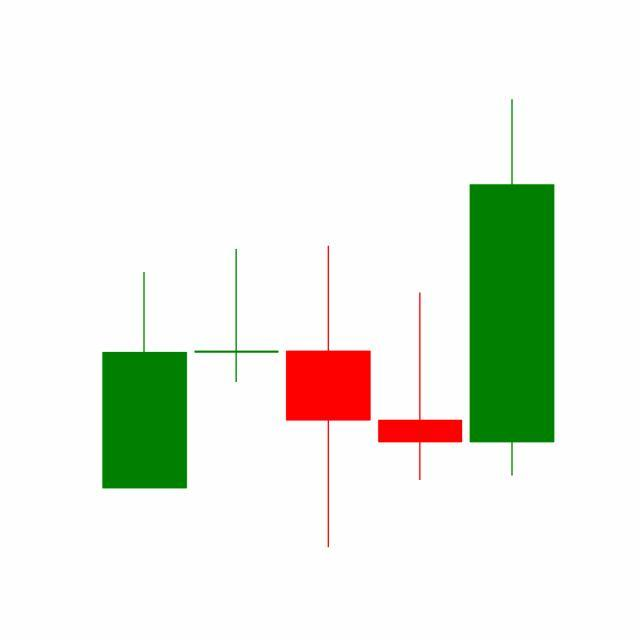Spinning Top: (374, 290, 468, 483)
